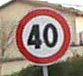limite 40: (14, 5, 71, 66)
